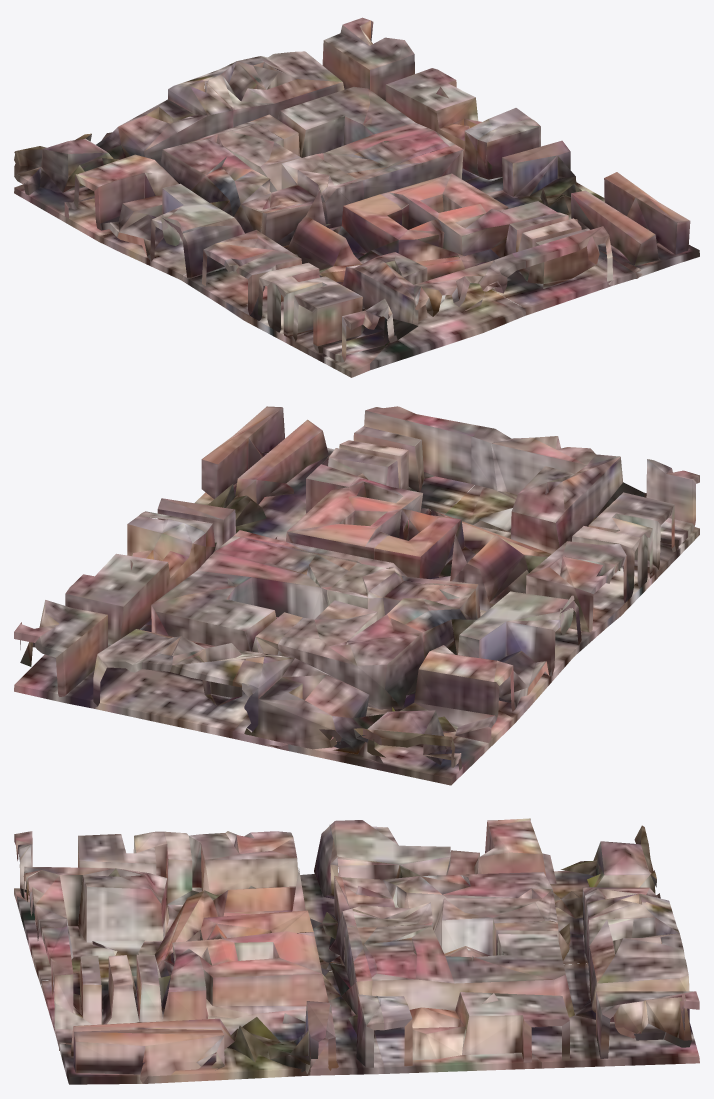
3 views of the same model, one above another, from view 1: azimuth 30°, elevation 25°; view 2: azimuth 150°, elevation 25°; view 3: azimuth 270°, elevation 25° (orthographic). The views are drawn at different scales.
Visible parts, largest first — view 1: Mesh_0; view 2: Mesh_0; view 3: Mesh_0.
Part boxes in pixels (<box>): Mesh_0: <box>14,17,699,377</box>; Mesh_0: <box>14,406,699,785</box>; Mesh_0: <box>14,818,699,1084</box>.
Bounding box in the file's own units: 266 × 47.17 × 330.
Materials: 1 (1 with a texture image).
